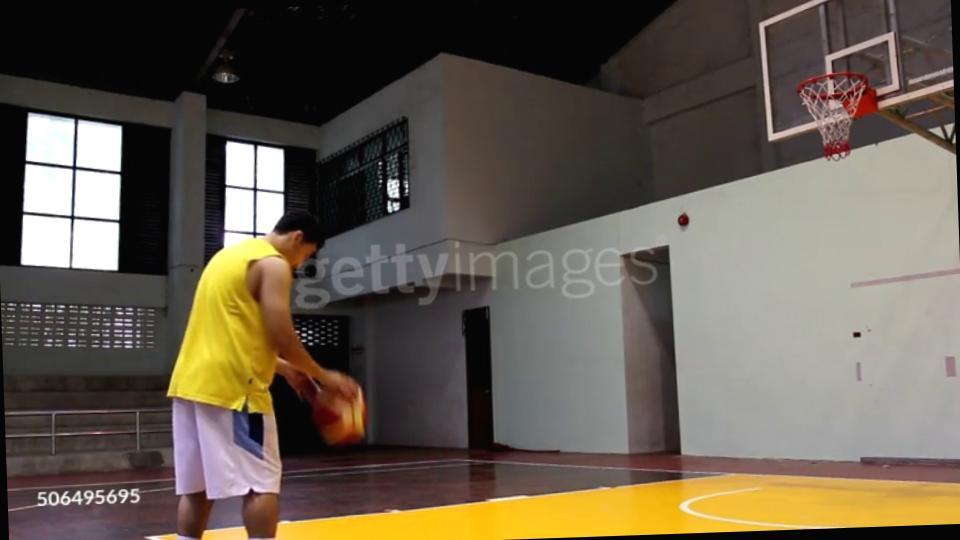hoop: (788, 66, 880, 102)
